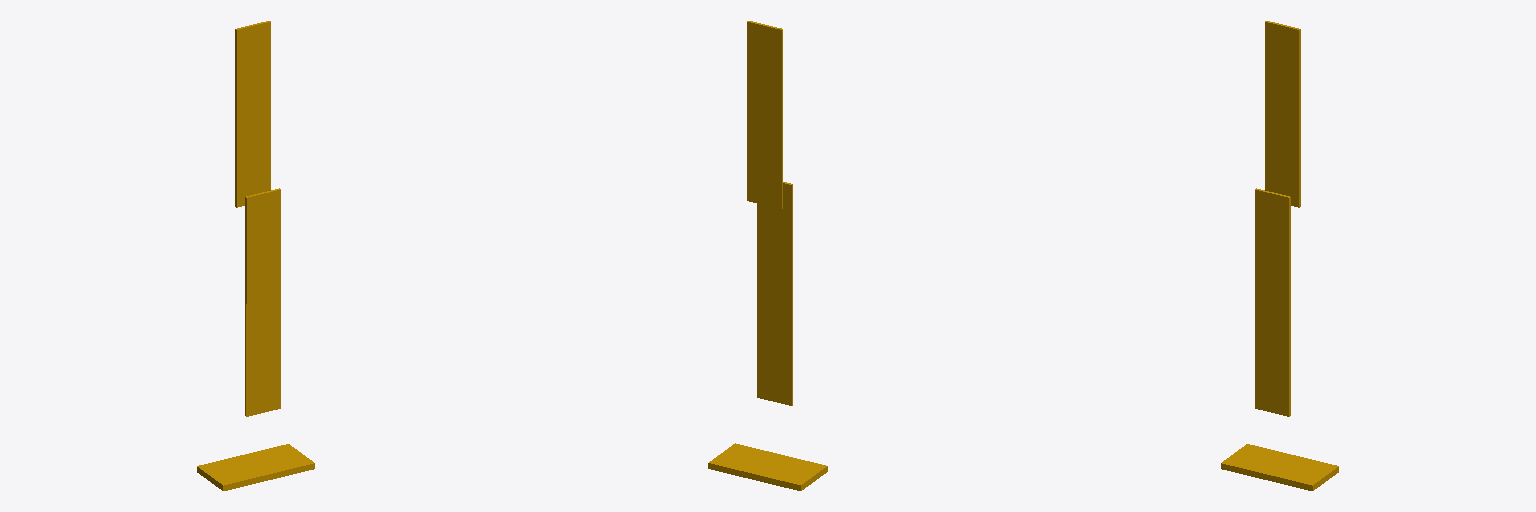
The robot description file, URDF, robot "threedofexample":
<?xml version="1.0"?>

<robot name="threedofexample">

  <!-- ******************************************************** -->
  <!-- ******************* Kinematic Chain ******************** -->
  <!-- ******************************************************** -->
  <!-- Note the 'origin' tag in the joints defines the shift and
       reorientation, i.e. the transform.  For moving joints, this
       happens before the continuous joint rotates around 'axis'. -->

  <!-- World can't take a visual element (at least in Gazebo). -->
  <link name="world"/>

  <joint name="placement" type="fixed">
    <parent link="world"/>
    <child  link="baseplate"/>
    <origin xyz="0.36325 -0.03234 0" rpy="0 0 0"/>			<!-- WHERE IS THE BASE -->
  </joint>

  <!-- BASE PLATE: Shift across the base plate to the base motor. --> 
  <link name="baseplate">
    <visual>
      <origin xyz="0.0 0.025 0.00615" rpy="0 0 0"/>
      <geometry>
	<box size="0.2 0.1 0.0124"/>
      </geometry>
      <material name="wood"/>
    </visual>
  </link>

  <joint name="baseplate" type="fixed">
    <parent link="baseplate"/>
    <child  link="basemotor"/>
    <origin xyz="0 0 0.01240" rpy="0 0 -1.5708"/>
  </joint>

  <!-- BASE MOTOR: Thickness: X5 = 31.1mm, X8 = 45.1mm -->
  <link name="basemotor">
    <visual>
      <geometry>
        <mesh filename="package://threedof/meshes/X8.stl"
	      scale="0.001 0.001 0.001"/>
      </geometry>
      <material name="hebi"/>
    </visual>
  </link>

  <joint name="base" type="continuous">
    <parent link="basemotor"/>
    <child  link="lbracket"/>
    <origin xyz="0 0 0.0449" rpy="0 0 0"/>
    <axis   xyz="0 0 1"/>
  </joint>

  <!-- L BRACKET: Shift and rotate across the L bracket. -->
  <link name="lbracket">
    <!-- Add a visual element -->
  </link>

  <joint name="lbracket" type="fixed">
    <parent link="lbracket"/>
    <child  link="shouldermotor"/>
    <origin xyz="-0.03234 0 0.11" rpy="0 -1.5708 3.1415"/>	  <!-- L BRACKET DIMENIONS -->
  </joint>
  

  <!-- SHOULDER MOTOR: Thickness: X5 = 31.1mm, X8 = 45.1mm -->
  <link name="shouldermotor">
    <visual>
      <geometry>
        <mesh filename="package://threedof/meshes/X5.stl"
	      scale="0.001 0.001 0.001"/>
      </geometry>
      <material name="hebi"/>
    </visual>
  </link>

  <joint name="shoulder" type="continuous">
    <parent link="shouldermotor"/>
    <child  link="upperarm"/>
    <origin xyz="0 0 0.0308" rpy="0 0 0"/>
    <axis   xyz="0 0 1"/>
  </joint>

  <!-- UPPER ARM: Shift across the upper arm (1/4in thickness) -->
  <link name="upperarm">
    <visual>
      <origin xyz="0.1925 0 0.00284" rpy="0 0 0"/>
      <geometry>
	<box size="0.456 0.075 0.00568"/>
      </geometry>
      <material name="wood"/>
    </visual>
  <!--Add a visual element> -->
  </link> 


 <!-- UPPER ARM: Shift across the upper arm (1/4in thickness) -->
  <!-- <link name="upperarm">
    <visual>
      <geometry>
        <mesh filename="package://threedof/meshes/upperarm.stl" 
        scale="0.001 0.001 0.001" />
      <collision>
        <origin xyz="0.0 0.0 0.0" rpy="1.5708 3.1415 0"/>
      </collision>
      </geometry>
      <material name="wood"/>
    </visual>
  </link> -->

  <joint name="upperarm" type="fixed">
    <parent link="upperarm"/>
    <child  link="elbowmotor"/>
    <origin xyz="0.385 0 0" rpy="3.1415 0 3.1415"/>		  <!-- UPPER ARM DIMENIONS -->
  </joint>

  <!-- Elbow motor.  Thickness: X5 = 31.1mm, X8 = 45.1mm -->
  <link name="elbowmotor">
    <visual>
      <geometry>
        <mesh filename="package://threedof/meshes/X5.stl"
	      scale="0.001 0.001 0.001"/>
      </geometry>
      <material name="hebi"/>
    </visual>
  </link>

  <joint name="elbow" type="continuous">
    <parent link="elbowmotor"/>
    <child  link="lowerarm"/>
    <origin xyz="0.0 0.0 0.0308" rpy="0 0 3.1415"/>
    <axis   xyz="0 0 1"/>
  </joint>

  <!-- Shift across the upper arm (1/4in thickness) -->
  <!-- <link name="lowerarm">
    <visual>
      <geometry>
        <mesh filename="package://threedof/meshes/basiclink.stl"/>
      </geometry>
      <material name="wood"/>
    </visual>
  </link> -->

  <link name="lowerarm">
    <visual>
      <origin xyz="0.185 0 0.00284" rpy="0 0 0"/>
      <geometry>
	<box size="0.37 0.075 0.00568"/>
      </geometry>
      <material name="wood"/>
    </visual>
  <!--Add a visual element> -->
  </link> 


  <joint name="lowerarm" type="fixed">
    <parent link="lowerarm"/>
    <child  link="tip"/>
    <origin xyz="0.37 0 0.00285" rpy="0 0 0"/>		  <!-- UPPER ARM DIMENIONS -->
  </joint>

  <!-- TIP FRAME -->
  <link name="tip"/>

  
  <!-- *************************************************** -->
  <!-- *************** Visual Link Elements ************** -->
  <!-- *************************************************** -->
  <!-- Note collada .dae files have better color/texture   -->
  <!-- suppport that STL files.                            -->

  <!-- Colors -->
  <material name="wood">  <color rgba="0.82 0.62 0.04 1"/>  </material>
  <material name="hebi">  <color rgba="0.82 0.06 0.06 1"/>  </material>

</robot>

--- What the picture shows (computed from the rendered views, not written in the file) ---
Views: 3 orthographic renders of the robot side by side, from view 1: azimuth 30°, elevation 25°; view 2: azimuth 150°, elevation 25°; view 3: azimuth 330°, elevation 25°.
Model threedofexample with 9 links and 8 joints (3 continuous, 5 fixed), rooted at world, posed every joint at zero.
Visible links, largest first — view 1: upperarm, lowerarm, baseplate; view 2: upperarm, lowerarm, baseplate; view 3: upperarm, lowerarm, baseplate.
Link boxes in pixels (x1,y1,x2,y2): upperarm: (245,188,280,416); lowerarm: (235,21,270,207); baseplate: (197,444,314,490); upperarm: (757,182,792,405); lowerarm: (747,21,782,208); baseplate: (708,443,827,490); upperarm: (1255,188,1290,416); lowerarm: (1265,21,1300,207); baseplate: (1221,444,1338,490).
Bounding box of the posed robot: 0.2 × 0.1 × 0.9224 m (x, y, z).
Meshes: 2 distinct files referenced, 0 mesh visuals loaded (none loaded); not drawn: 3 (reference not matched to a file when rendering).